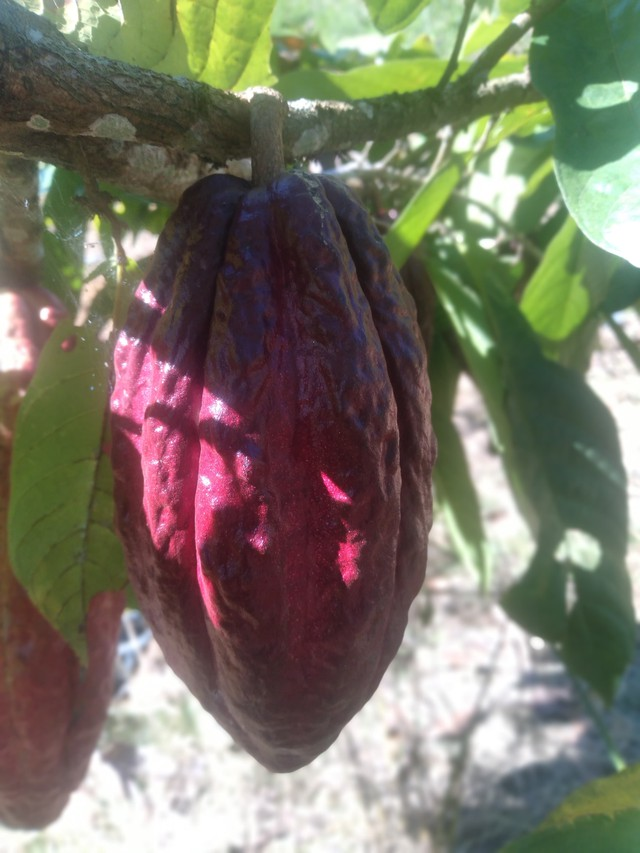Health: (99, 145, 452, 790)
